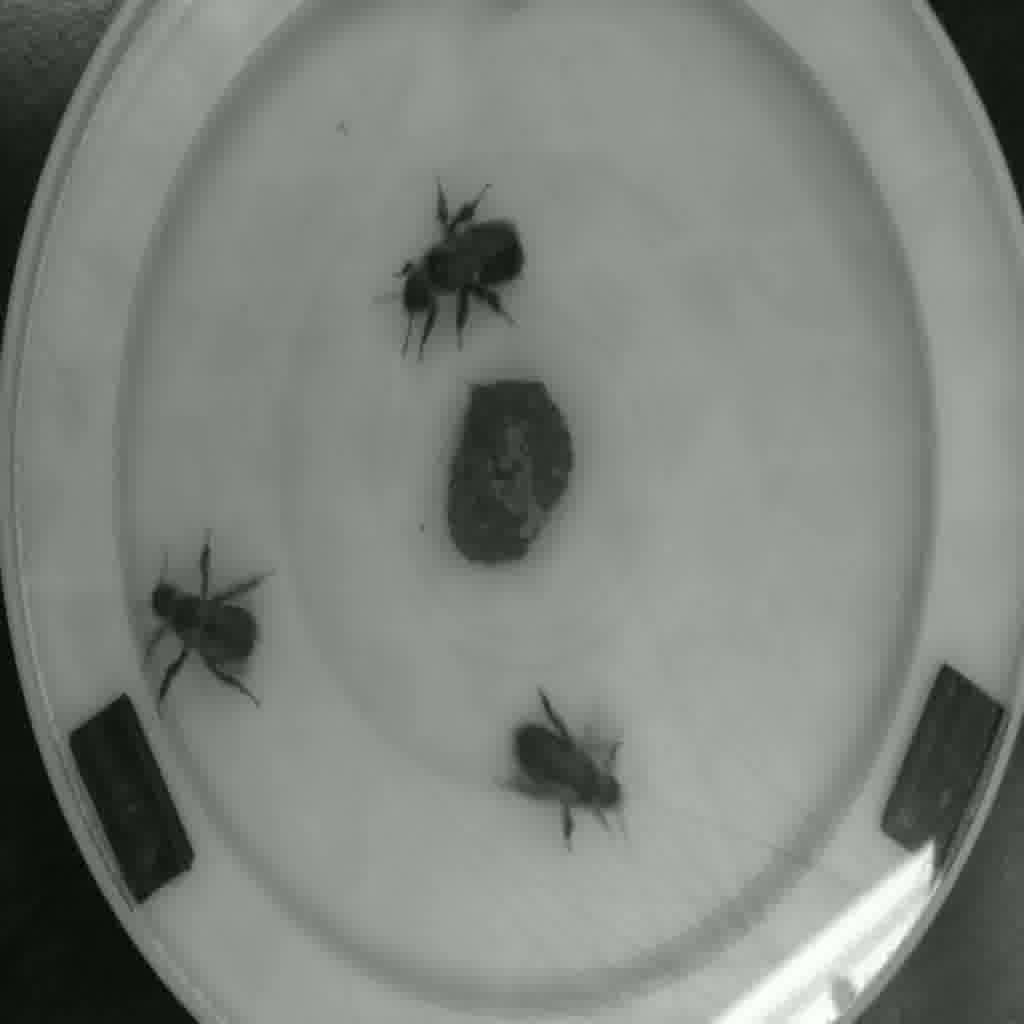bee: (389, 206, 542, 357), (137, 551, 284, 701), (511, 703, 638, 841)
